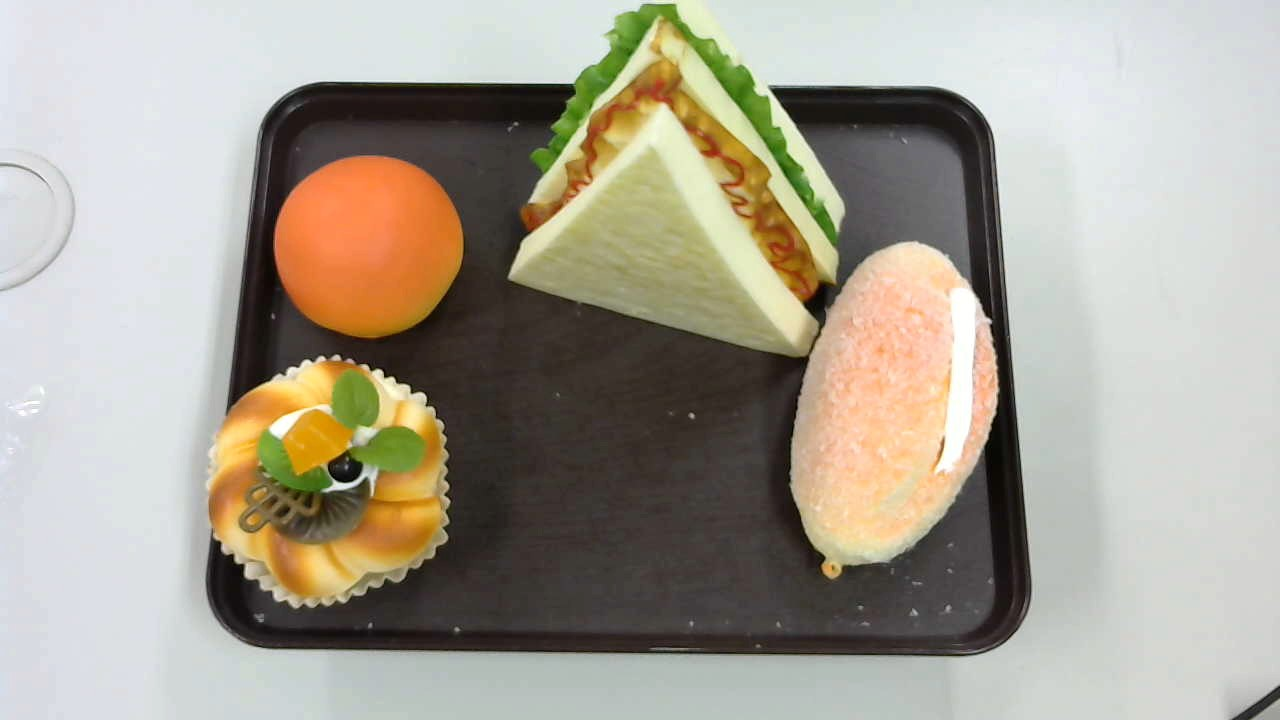bun: (274, 156, 463, 337)
coconut: (788, 241, 999, 581)
fruit tart: (199, 352, 452, 613)
sandwich: (505, 1, 848, 362)
